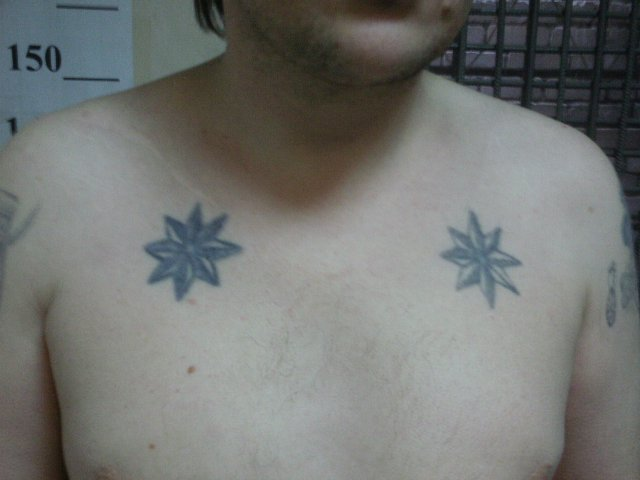tatu4_zvezda: (141, 201, 245, 310), (440, 209, 524, 313)
